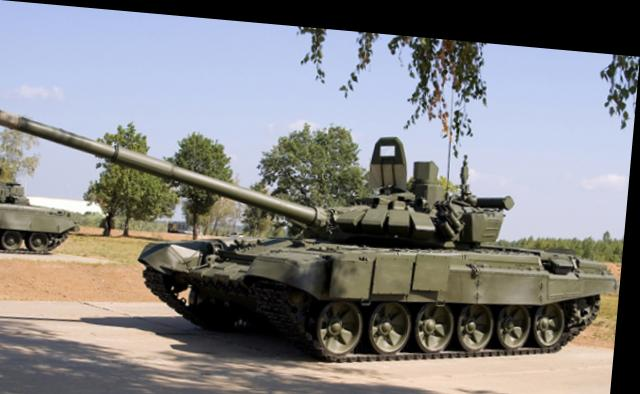tank: (149, 159, 619, 354), (0, 170, 80, 253)
